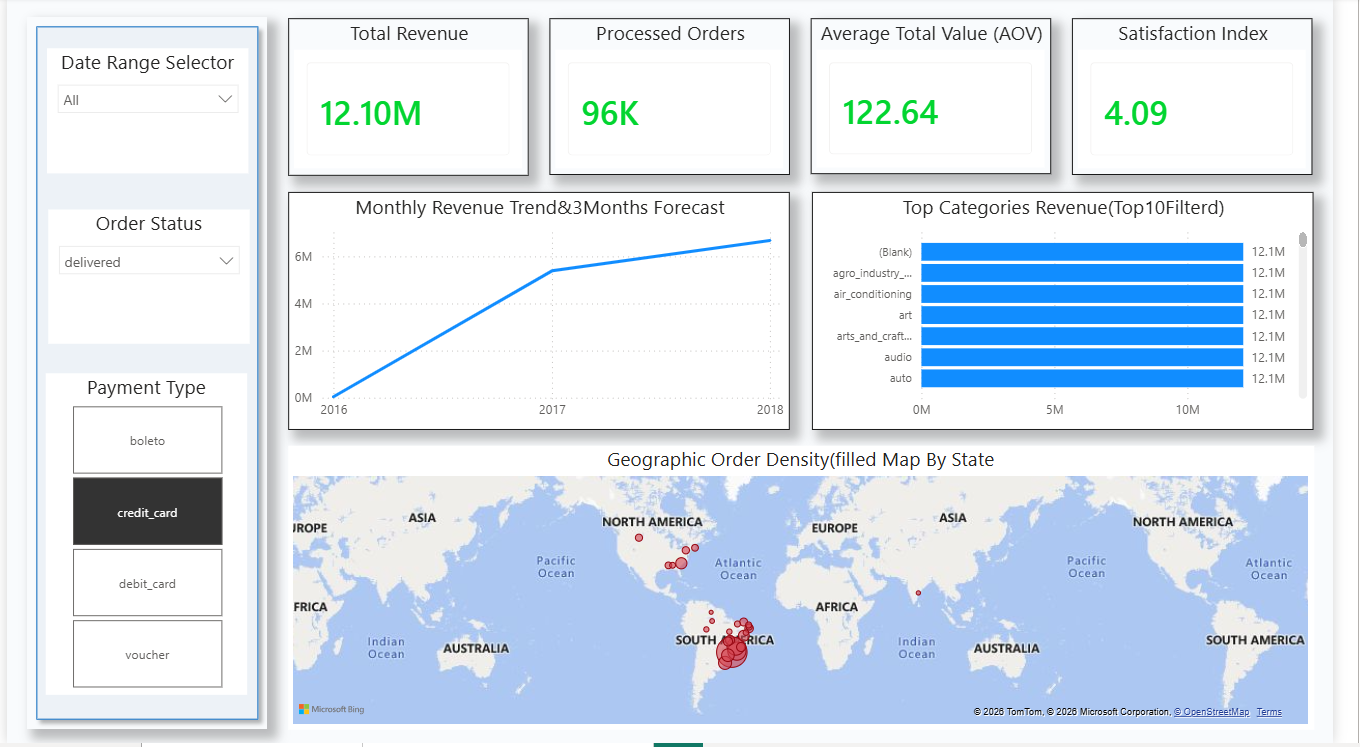

Layout of this report page (visuals, bound fields, positions):
{"tool":"powerbi","page":{"name":"Executive Sales Overview","canvas":[1280,720],"ordinal":0},"visuals":[{"type":"cardVisual","title":"Total Revenue","fields":{"Data":["olist_order_payments_dataset.total_gross_Revenue"]},"box":[272,20,232.3,151.6],"z":0},{"type":"cardVisual","title":"Processed Orders","fields":{"Data":["cleaned_orders.Total_orders_processed"]},"box":[524,20.6,232,150.9],"z":1000},{"type":"cardVisual","title":"Average Total Value (AOV)","fields":{"Data":["clean_products.AOV"]},"box":[776,20,232,150],"z":2000},{"type":"cardVisual","title":"Satisfaction Index","fields":{"Data":["cleaned_orders_review.customer_statisfaction_Index"]},"box":[1028,20,232,150.9],"z":3000},{"type":"shape","box":[19.6,19.6,232.3,687.2],"z":4000},{"type":"slicer","title":"Date Range Selector","fields":{"Values":["cleaned_orders.order_purchase_timestamp","cleaned_orders.order_purchase_timestamp.Variation.Date Hierarchy.Month"]},"box":[39.1,48.9,194.4,121.1],"z":5000},{"type":"slicer","title":"Order Status","fields":{"Values":["cleaned_orders.order_status"]},"box":[40.4,205.4,194.4,129.6],"z":6000},{"type":"slicer","title":"Payment Type","fields":{"Values":["olist_order_payments_dataset.payment_type"]},"box":[37.9,363.2,194.4,310.6],"z":7000},{"type":"lineChart","title":"Monthly Revenue Trend&3Months Forecast","fields":{"Y":["olist_order_payments_dataset.total_gross_Revenue"],"Category":["cleaned_orders.order_purchase_timestamp.Variation.Date Hierarchy.Year","cleaned_orders.order_purchase_timestamp.Variation.Date Hierarchy.Quarter","cleaned_orders.order_purchase_timestamp.Variation.Date Hierarchy.Month","cleaned_orders.order_purchase_timestamp.Variation.Date Hierarchy.Day"]},"box":[271.5,188.3,484.2,229.9],"z":8000},{"type":"clusteredBarChart","title":"Top Categories Revenue(Top10Filterd)","fields":{"Category":["clean_products.product_category_name_english"],"Y":["olist_order_payments_dataset.total_gross_Revenue"]},"box":[776.5,188.3,484.2,229.9],"z":9000},{"type":"map","title":"Geographic Order Density(filled Map By State","fields":{"Size":["cleaned_orders.Total_orders_processed"],"Category":["olist_customers_dataset.State Full Context"]},"box":[271.5,432.9,989.3,273.9],"z":10000}]}

Visuals, with their boxes in screenshot pixels (x1, y1, x2, y2), scaled from the page's 1280x720 canvas onto the 1360x747 screenshot:
"Total Revenue" cardVisual: Rect(289, 21, 536, 178)
"Processed Orders" cardVisual: Rect(557, 21, 803, 178)
"Average Total Value (AOV)" cardVisual: Rect(824, 21, 1071, 176)
"Satisfaction Index" cardVisual: Rect(1092, 21, 1339, 177)
shape: Rect(21, 20, 268, 733)
"Date Range Selector" slicer: Rect(42, 51, 248, 176)
"Order Status" slicer: Rect(43, 213, 249, 348)
"Payment Type" slicer: Rect(40, 377, 247, 699)
"Monthly Revenue Trend&3Months Forecast" lineChart: Rect(288, 195, 803, 434)
"Top Categories Revenue(Top10Filterd)" clusteredBarChart: Rect(825, 195, 1339, 434)
"Geographic Order Density(filled Map By State" map: Rect(288, 449, 1340, 733)
